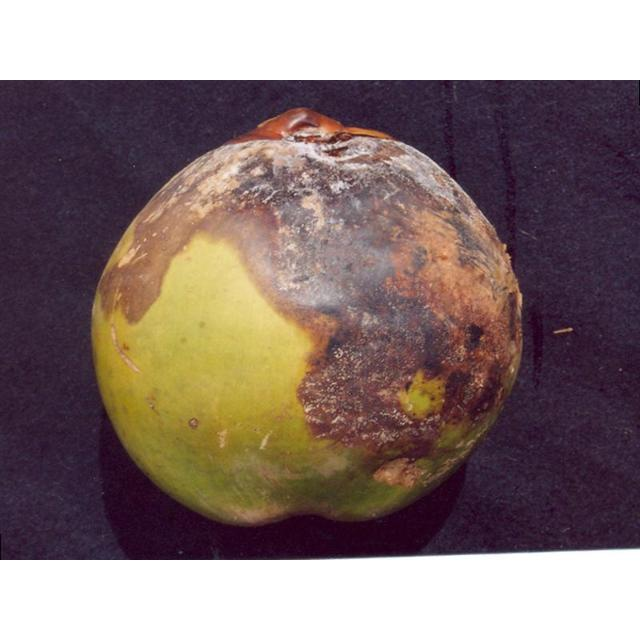damaged: (89, 108, 525, 531)
